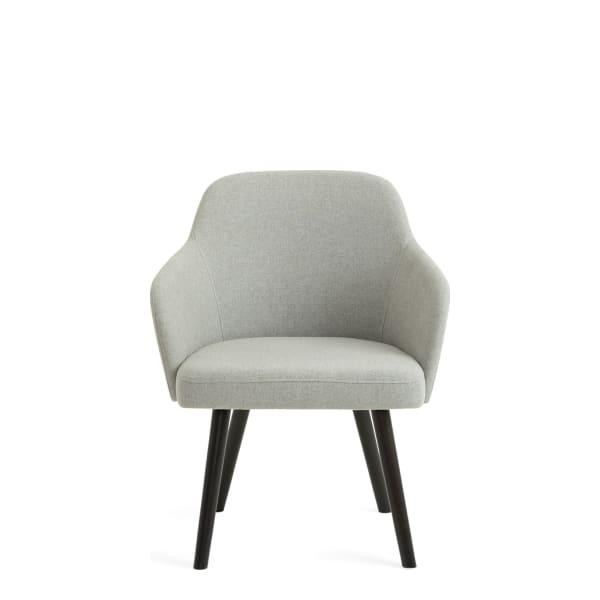sofa: (145, 162, 463, 587)
